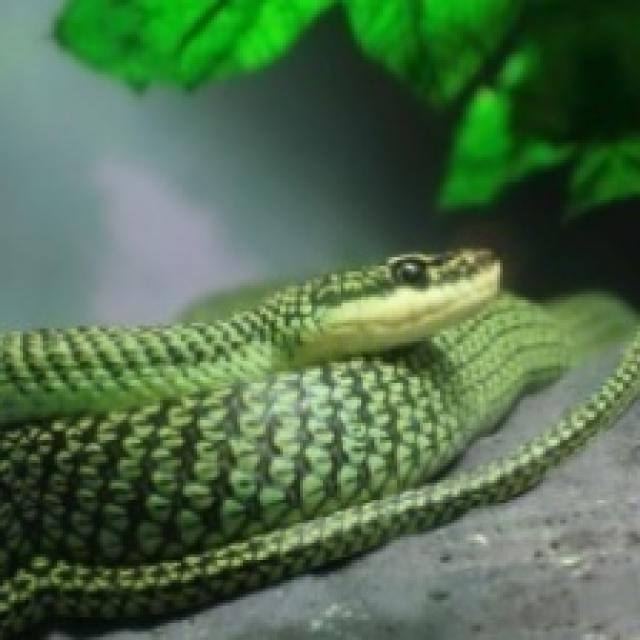paradise tree snake: (0, 249, 631, 637)
